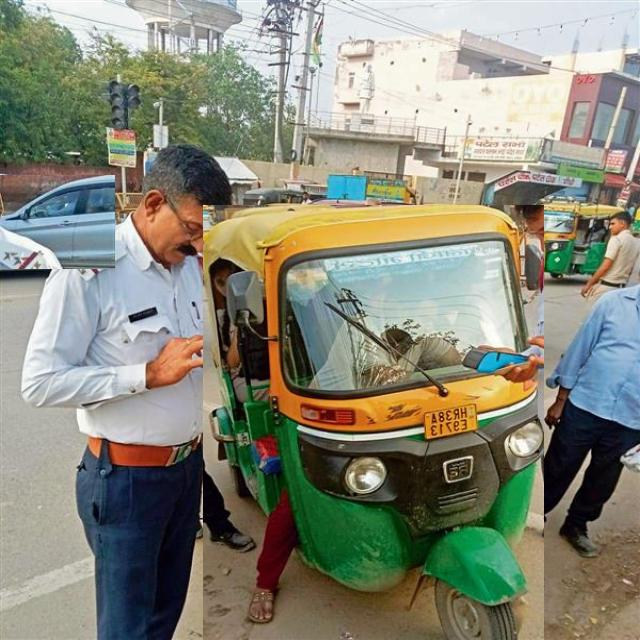autorickshaw: (203, 205, 544, 640), (532, 199, 620, 277)
car: (0, 175, 115, 269)
